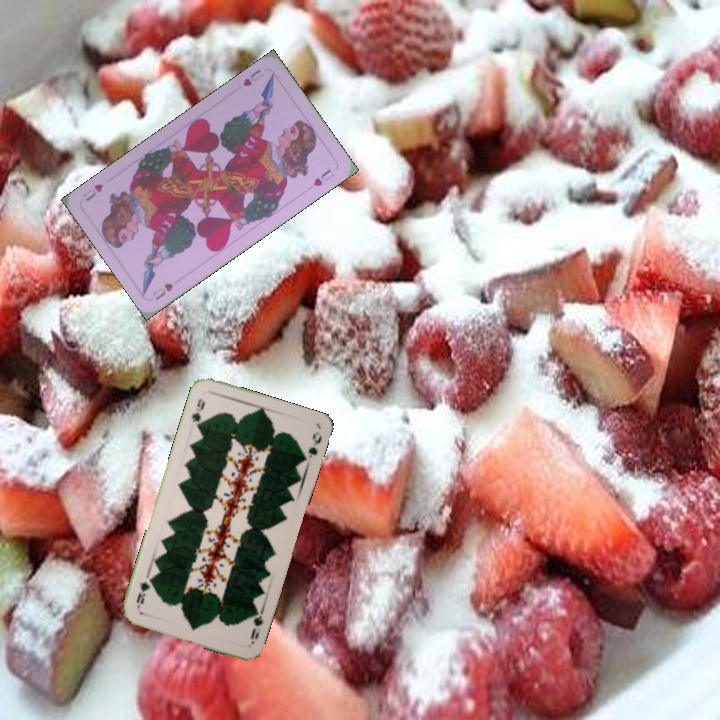G9: (246, 605, 266, 647), (187, 394, 208, 431)
HU: (239, 65, 266, 89), (148, 279, 176, 302)
